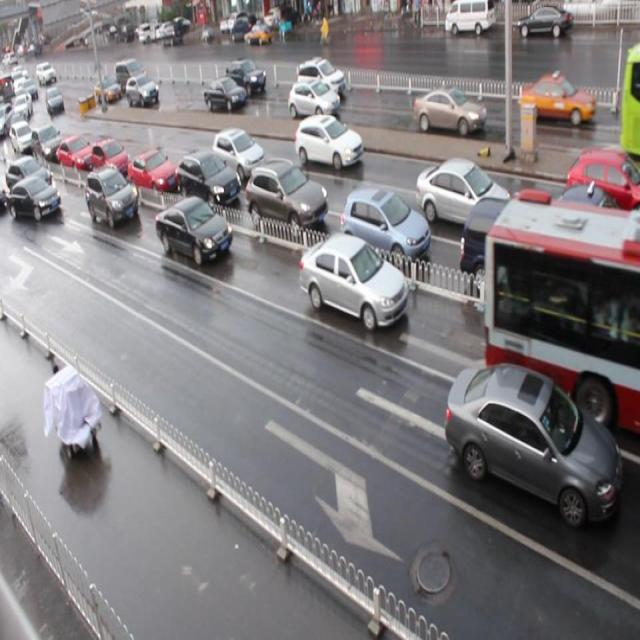BigCar: (478, 188, 640, 432)
car: (441, 351, 632, 536), (295, 222, 410, 346), (341, 180, 431, 264), (152, 189, 235, 276), (246, 154, 327, 236), (416, 148, 494, 230), (406, 75, 496, 144), (517, 59, 596, 132), (295, 110, 364, 182), (172, 143, 241, 210), (82, 168, 143, 231), (5, 174, 64, 224), (287, 76, 346, 124), (515, 2, 578, 44), (221, 49, 269, 99), (437, 3, 500, 36), (130, 143, 175, 189), (199, 75, 248, 113), (124, 71, 168, 112), (60, 136, 95, 171), (40, 80, 70, 118), (10, 120, 35, 161)
